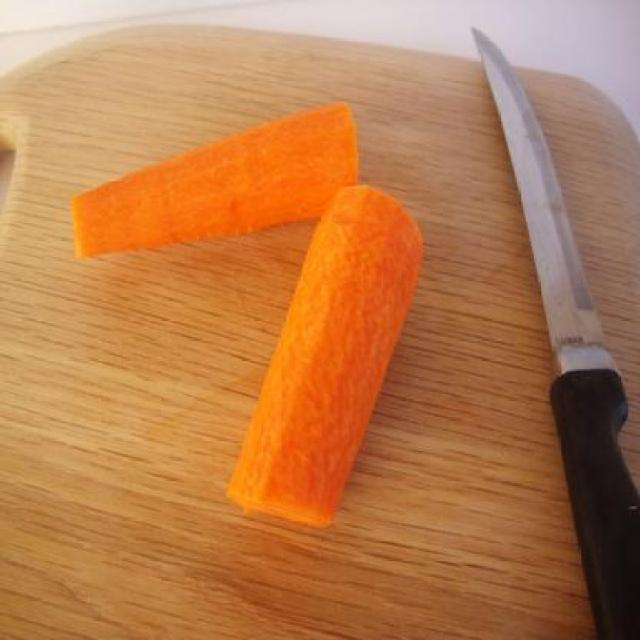carrot: (225, 192, 429, 532), (72, 93, 361, 260)
